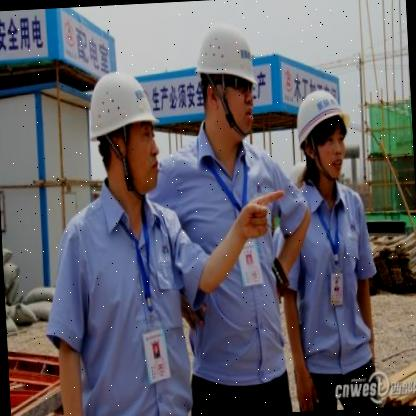capacete: (82, 66, 162, 204), (192, 22, 264, 142), (293, 84, 355, 186)
sem_colete_refletivo: (38, 182, 212, 415), (168, 134, 304, 384), (272, 178, 384, 382)
